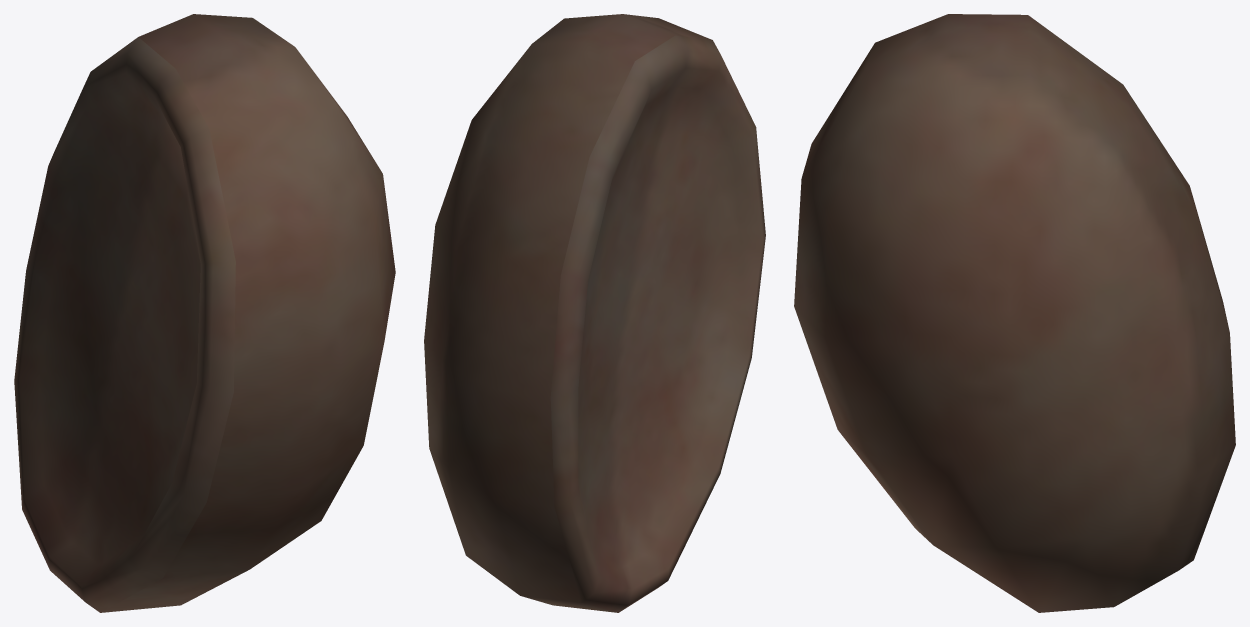
File: Pons.gltf
The picture shows the model from 3 angles, left to right: view 1: azimuth 30°, elevation 25°; view 2: azimuth 150°, elevation 25°; view 3: azimuth 270°, elevation 25°; orthographic projection. The views are drawn at different scales.
Visible parts, largest first — view 1: Pons; view 2: Pons; view 3: Pons.
Part boxes in pixels (box(x1,y1,x2,y2)): Pons: box(14, 14, 395, 612); Pons: box(424, 14, 765, 612); Pons: box(794, 14, 1235, 612).
Bounding box in the file's own units: 0.9671 × 2.11 × 1.47.
Materials: 1 (1 with a texture image).
